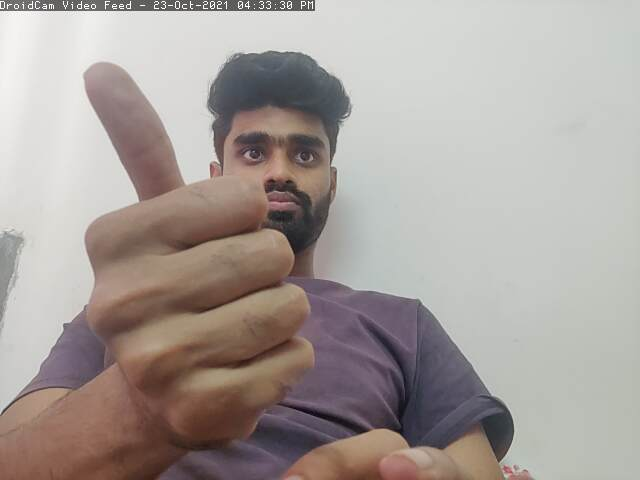ThumbsUp: (74, 62, 315, 442)
